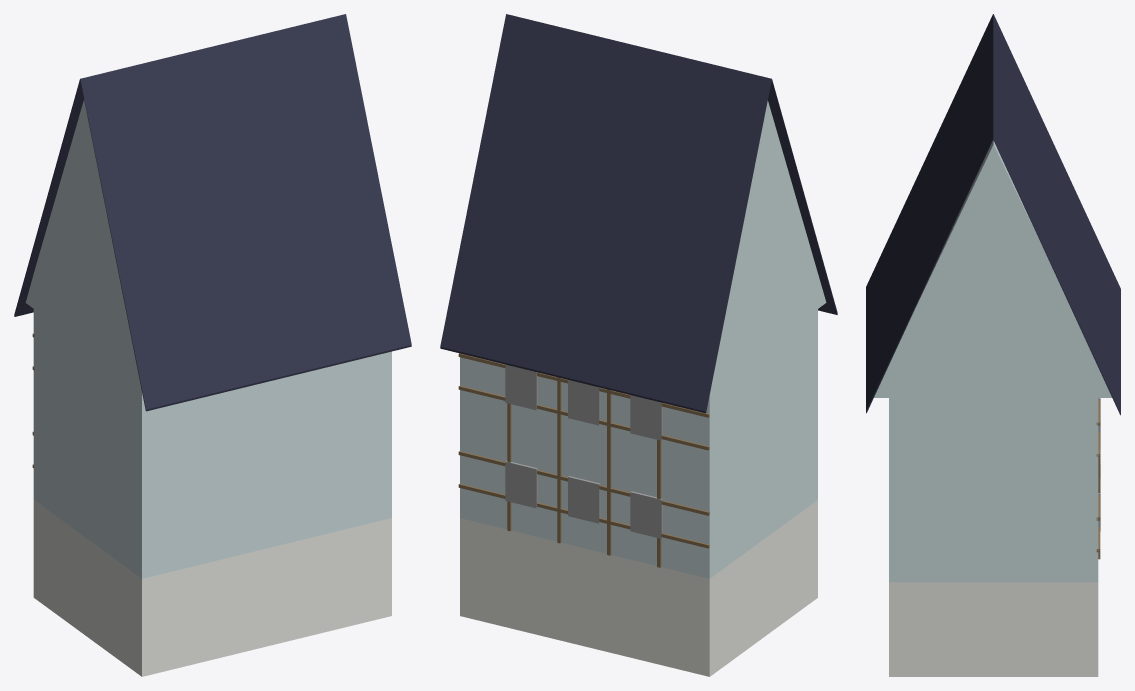
The model's file is house3.fbx.
3 views of the same model, side by side, from view 1: azimuth 30°, elevation 25°; view 2: azimuth 150°, elevation 25°; view 3: azimuth 270°, elevation 25° (orthographic). The views are drawn at different scales.
Visible parts, largest first — view 1: Roof, Base_Stone, Floor_2, Floor_3, 円柱; view 2: Roof, Base_Stone, Floor_2, Floor_3, 円柱, 立方体.013, 立方体.012, 立方体.014, 立方体.015, 立方体.016, 立方体.017, 立方体.004 (+3 smaller); view 3: Roof, 円柱, Floor_3, Floor_2, Base_Stone.
Part boxes in pixels (left/top/right/bottom): Roof: left=14, top=14, right=411, bottom=411; Base_Stone: left=33, top=500, right=391, bottom=676; Floor_2: left=33, top=402, right=391, bottom=578; Floor_3: left=33, top=303, right=391, bottom=480; 円柱: left=25, top=100, right=140, bottom=386; Roof: left=440, top=14, right=837, bottom=413; Base_Stone: left=460, top=500, right=817, bottom=676; Floor_2: left=460, top=402, right=817, bottom=578; Floor_3: left=460, top=309, right=817, bottom=480; 円柱: left=712, top=100, right=826, bottom=380; 立方体.013: left=568, top=476, right=600, bottom=523; 立方体.012: left=630, top=491, right=662, bottom=538; 立方体.014: left=505, top=461, right=537, bottom=508; 立方体.015: left=630, top=395, right=662, bottom=440; 立方体.016: left=568, top=380, right=600, bottom=425; 立方体.017: left=505, top=364, right=537, bottom=410; 立方体.004: left=458, top=483, right=709, bottom=548; Roof: left=866, top=14, right=1120, bottom=415; 円柱: left=874, top=140, right=1111, bottom=397; Floor_3: left=889, top=392, right=1098, bottom=487; Floor_2: left=889, top=487, right=1098, bottom=582; Base_Stone: left=889, top=582, right=1098, bottom=676.
Bounding box in the file's own units: 851 × 1714 × 731.
